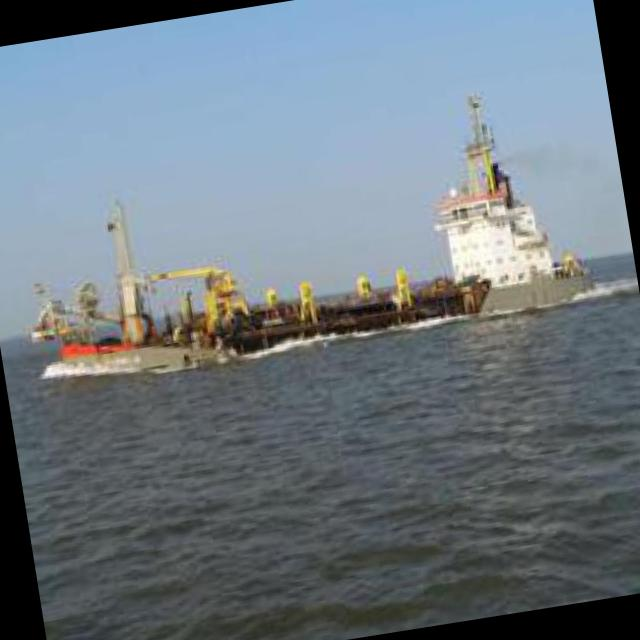boat: (38, 170, 600, 395)
